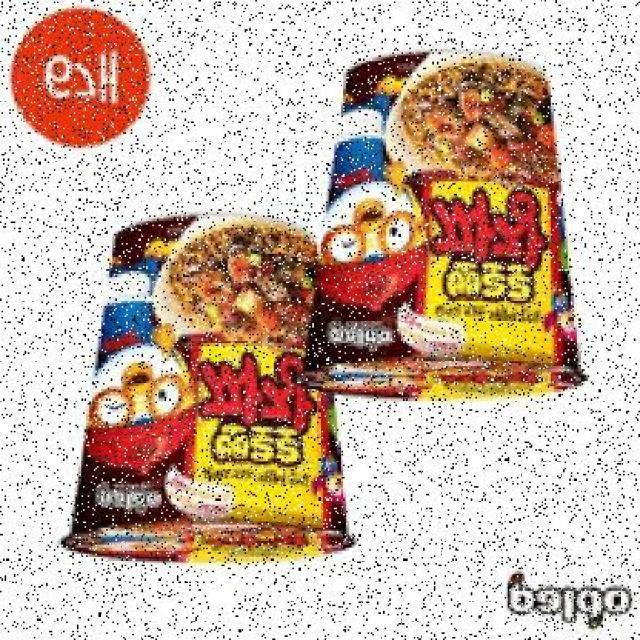Miscellaneous: (63, 216, 360, 582), (302, 48, 590, 404)
